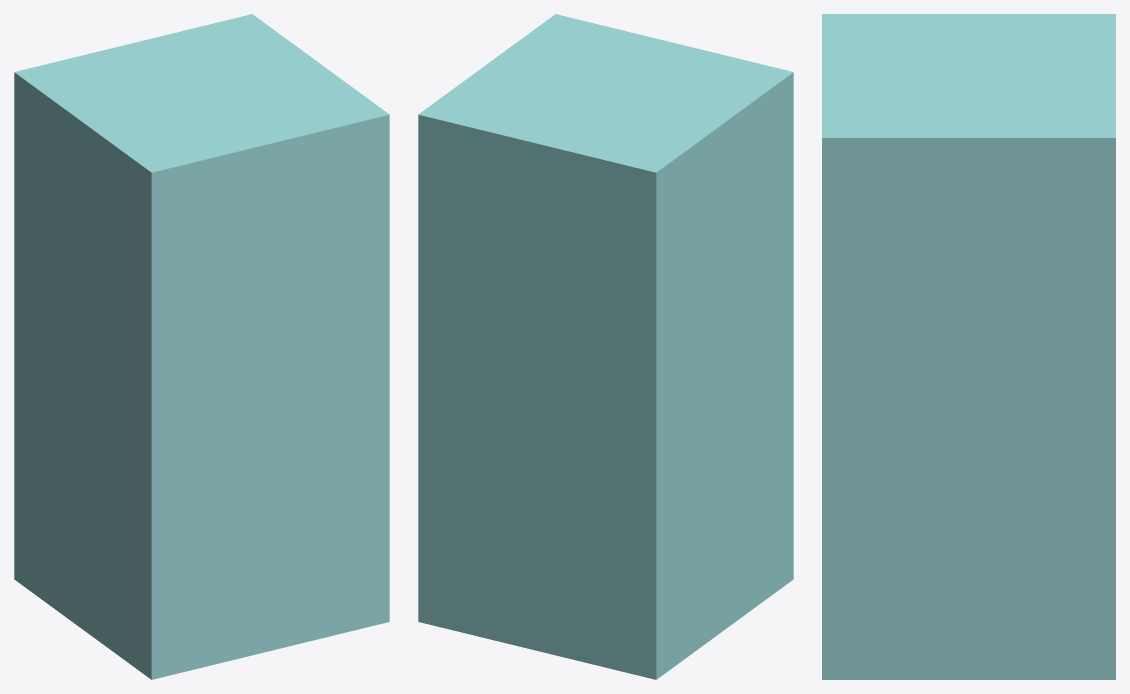
Rendered from walkway_02_corner.DAE.
3 renders of one model, left to right at view 1: azimuth 30°, elevation 25°; view 2: azimuth 150°, elevation 25°; view 3: azimuth 270°, elevation 25°, orthographic. The views are drawn at different scales.
Parts seen in each view (by area): view 1: bounds; view 2: bounds; view 3: bounds.
Boxes of the visible parts, x1,y1,x2,y2 form: bounds: [14, 14, 389, 679]; bounds: [418, 14, 793, 679]; bounds: [822, 14, 1115, 679].
Bounding box in the file's own units: 312 × 312 × 635.
